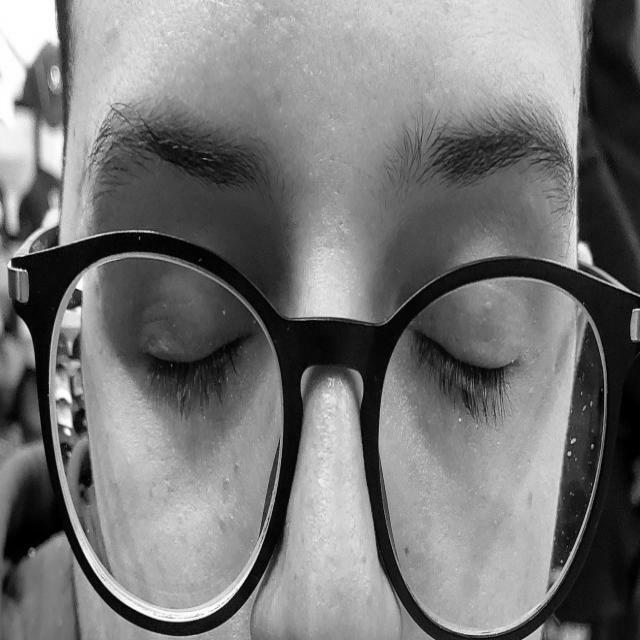real: (86, 182, 568, 507)
